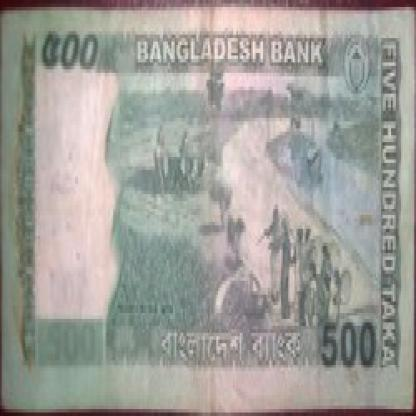500 taka: (306, 308, 391, 385), (25, 28, 116, 86)
currency: (0, 10, 415, 413)
